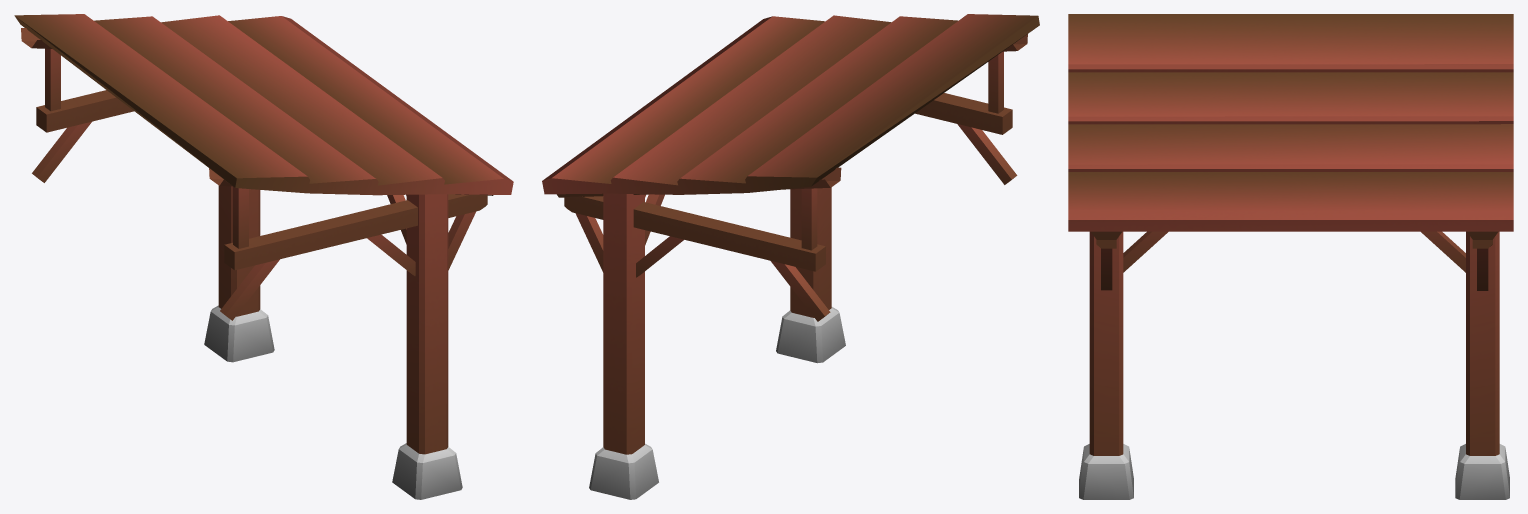
Rendered from Pergola_Small.fbx.
The picture shows the model from 3 angles, left to right: view 1: azimuth 30°, elevation 25°; view 2: azimuth 150°, elevation 25°; view 3: azimuth 270°, elevation 25°; orthographic projection.
Parts seen in each view (by area): view 1: Pergola_Small; view 2: Pergola_Small; view 3: Pergola_Small.
Boxes of the visible parts, left/top/right/bottom form: Pergola_Small: left=14, top=14, right=513, bottom=499; Pergola_Small: left=542, top=14, right=1039, bottom=499; Pergola_Small: left=1068, top=14, right=1513, bottom=499.
Bounding box in the file's own units: 3.1 × 3.94 × 4.27.
1 material, 1 textured.
